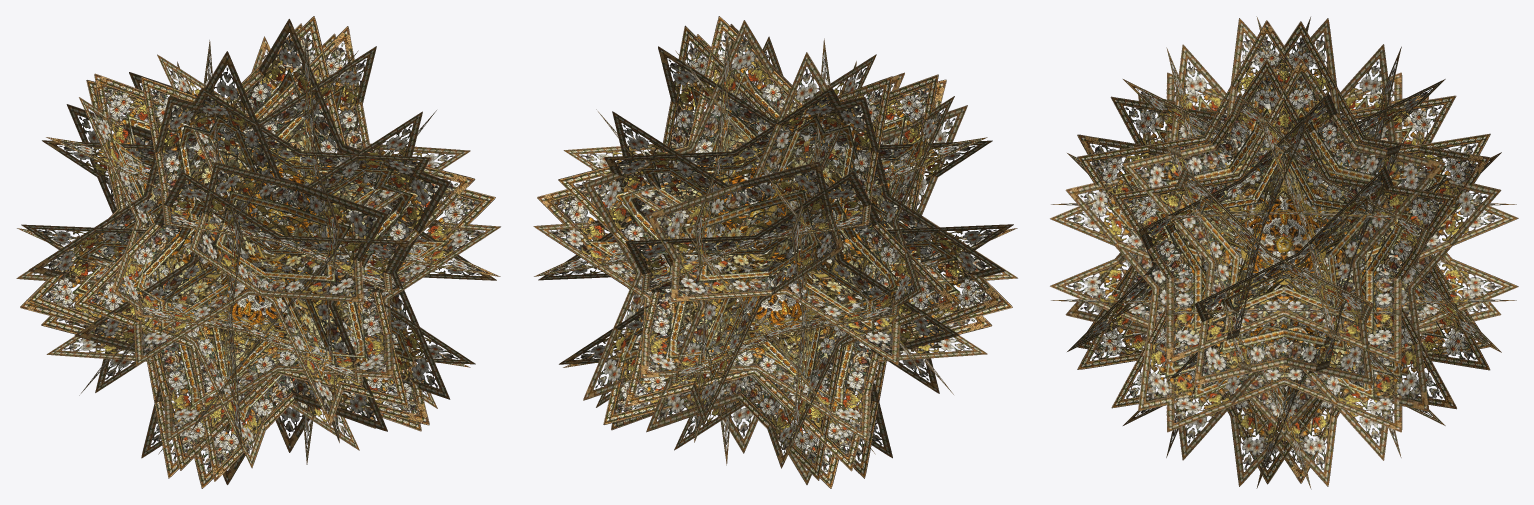
File: GreatTruncatedIcosidodecahedron12.gltf
3 renders of one model, left to right at view 1: azimuth 30°, elevation 25°; view 2: azimuth 150°, elevation 25°; view 3: azimuth 270°, elevation 25°, orthographic. The views are drawn at different scales.
Visible parts, largest first — view 1: GreatTruncatedIcosidodecahedron; view 2: GreatTruncatedIcosidodecahedron; view 3: GreatTruncatedIcosidodecahedron.
Part boxes in pixels (x1=…): GreatTruncatedIcosidodecahedron: x1=16, y1=16, x2=500, y2=488; GreatTruncatedIcosidodecahedron: x1=533, y1=16, x2=1017, y2=488; GreatTruncatedIcosidodecahedron: x1=1050, y1=16, x2=1518, y2=489.
Size of the model in its own units: 2 by 2 by 2.
Materials: 1 (1 with a texture image).
